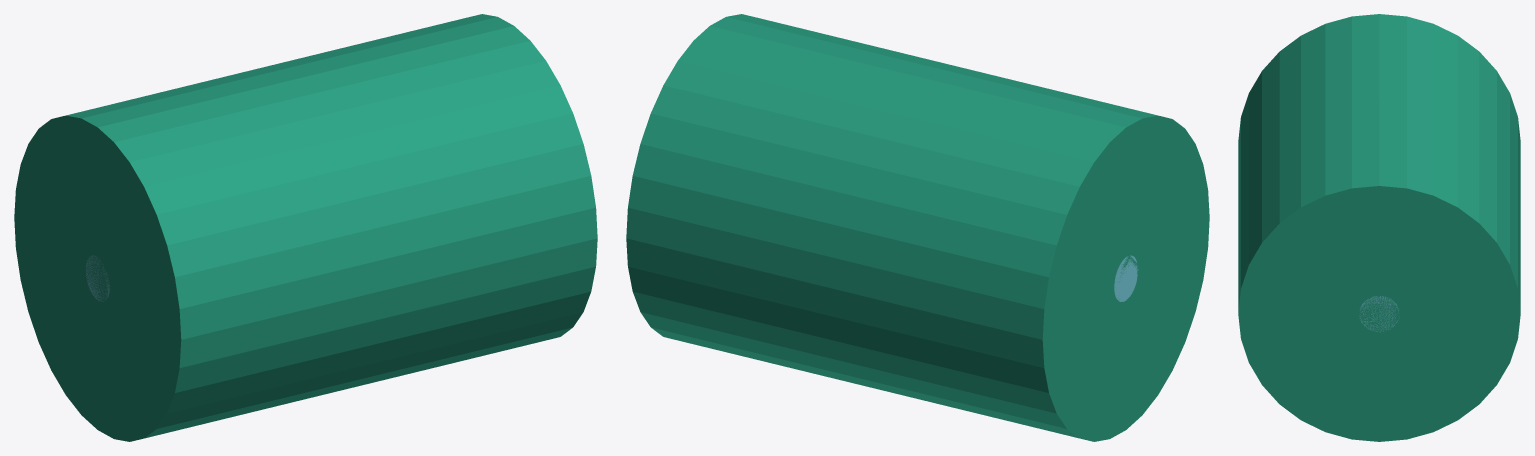
File: isolator.glb
3 renders of one model, left to right at view 1: azimuth 30°, elevation 25°; view 2: azimuth 150°, elevation 25°; view 3: azimuth 270°, elevation 25°, orthographic. The views are drawn at different scales.
Parts seen in each view (by area): view 1: isolator; view 2: isolator; view 3: isolator.
Part boxes in pixels (left/top/right/bottom): isolator: left=14, top=14, right=597, bottom=441; isolator: left=626, top=14, right=1209, bottom=441; isolator: left=1238, top=14, right=1520, bottom=441.
Size of the model in its own units: 36 by 25 by 25.
